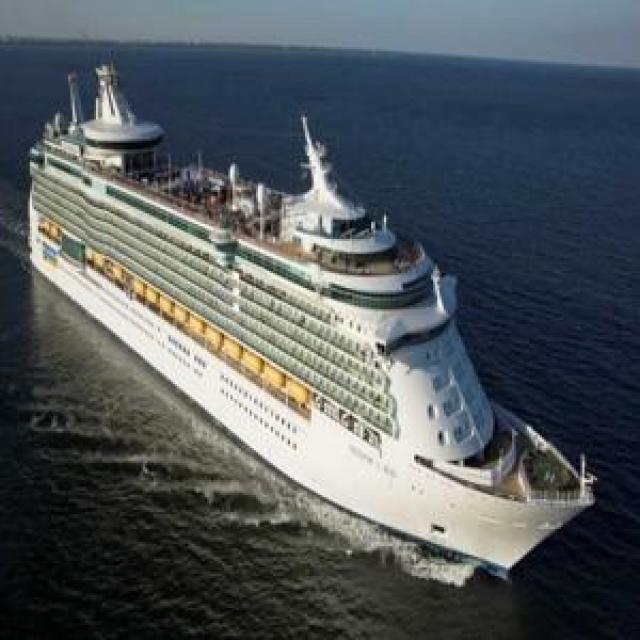passenger ship: (21, 55, 586, 568)
